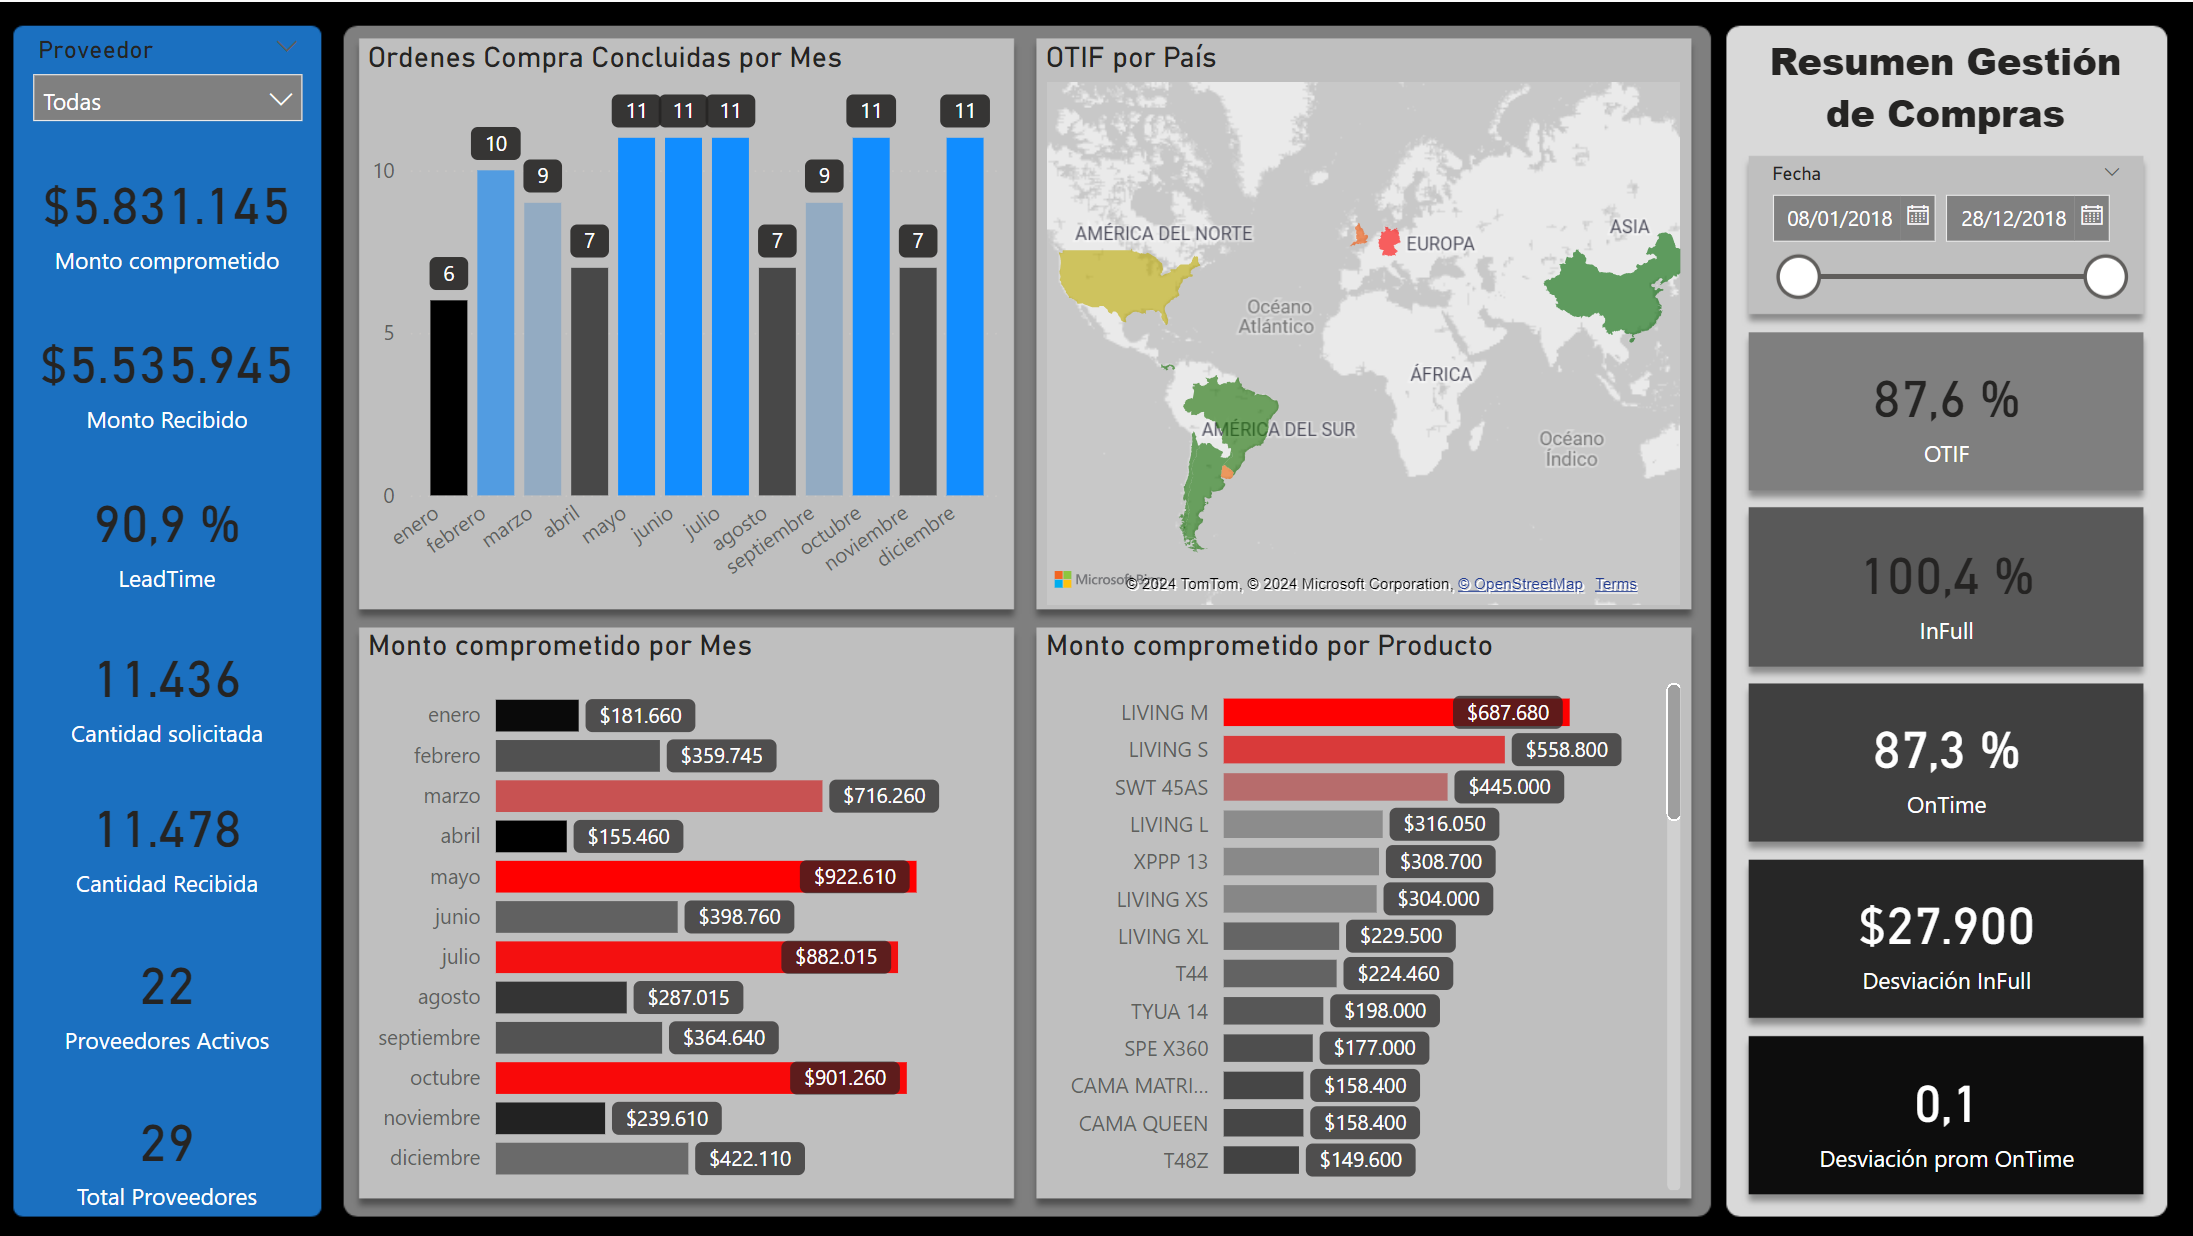

The dashboard page shown, as its layout file describes it:
{"tool":"powerbi","page":{"name":"Resumen Gestión Compra","canvas":[1280,720],"ordinal":0},"visuals":[{"type":"card","fields":{"Values":["ORDENES.Monto comprometido"]},"box":[10,87.7,176.7,75.8],"z":0},{"type":"card","fields":{"Values":["ORDENES.Monto Recibido"]},"box":[10,178.6,176.7,77.7],"z":1000},{"type":"clusteredColumnChart","fields":{"Y":["ORDENES.Ordenes Compra Concluidas"],"Category":["ORDENES.Fecha.Variación.Jerarquía de fechas.Mes"]},"box":[210.7,21.5,379,333.9],"z":2000},{"type":"card","fields":{"Values":["ORDENES.Cantidad solicitada"]},"box":[10,364.3,176.7,72.7],"z":3000},{"type":"card","fields":{"Values":["ORDENES.Cantidad Recibida"]},"box":[10,452.1,176.7,71.4],"z":4000},{"type":"card","fields":{"Values":["ORDENES.InFull"]},"box":[1019.2,296.2,228.2,89.5],"z":5000},{"type":"card","fields":{"Values":["ORDENES.OnTime"]},"box":[1019.2,397.2,228.2,89.5],"z":6000},{"type":"card","fields":{"Values":["ORDENES.OTIF"]},"box":[1019.2,192.5,228.2,89.5],"z":7000},{"type":"card","fields":{"Values":["ORDENES.Desviación InFull"]},"box":[1019.2,499.5,228.2,89.5],"z":8000},{"type":"card","fields":{"Values":["ORDENES.Desviación prom OnTime"]},"box":[1019.2,603.2,228.2,89.5],"z":9000},{"type":"slicer","fields":{"Values":["ORDENES.Fecha"]},"box":[1019.2,88.2,228.2,92.9],"z":10000},{"type":"clusteredBarChart","fields":{"Y":["ORDENES.Monto comprometido"],"Category":["ORDENES.Fecha.Variación.Jerarquía de fechas.Mes"]},"box":[210.7,364.2,379,332.6],"z":11000},{"type":"clusteredBarChart","fields":{"Y":["ORDENES.Monto comprometido"],"Category":["PRODUCTOS.descrip_prod"]},"box":[605.2,364.2,379,332.6],"z":12000},{"type":"filledMap","fields":{"Category":["PROVEEDORES.País"]},"box":[605.2,21.5,379,333.9],"z":13000},{"type":"card","fields":{"Values":["ORDENES.Proveedores Activos"]},"box":[10,538.6,176.7,80.8],"z":14000},{"type":"card","fields":{"Values":["ORDENES.Total Proveedores"]},"box":[10,634.6,176.7,71.4],"z":15000},{"type":"slicer","fields":{"Values":["PROVEEDORES.Proveedor"]},"box":[10.2,14.1,176.5,74.8],"z":16000},{"type":"textbox","box":[1011.2,14.1,243,74.2],"z":17000},{"type":"card","fields":{"Values":["ORDENES.LeadTime"]},"box":[10,271.5,176.7,77.7],"z":18000}]}

Visuals, with their boxes in screenshot pixels (x1, y1, x2, y2), scaled from the page's 1280x720 canvas onto the 2193x1236 screenshot:
card - ORDENES.Monto comprometido: 17, 151, 320, 281
card - ORDENES.Monto Recibido: 17, 307, 320, 440
clusteredColumnChart - ORDENES.Ordenes Compra Concluidas x ORDENES.Fecha.Variación.Jerarquía de fechas.Mes: 361, 37, 1010, 610
card - ORDENES.Cantidad solicitada: 17, 625, 320, 750
card - ORDENES.Cantidad Recibida: 17, 776, 320, 899
card - ORDENES.InFull: 1746, 508, 2137, 662
card - ORDENES.OnTime: 1746, 682, 2137, 836
card - ORDENES.OTIF: 1746, 330, 2137, 484
card - ORDENES.Desviación InFull: 1746, 857, 2137, 1011
card - ORDENES.Desviación prom OnTime: 1746, 1035, 2137, 1189
slicer - ORDENES.Fecha: 1746, 151, 2137, 311
clusteredBarChart - ORDENES.Monto comprometido x ORDENES.Fecha.Variación.Jerarquía de fechas.Mes: 361, 625, 1010, 1196
clusteredBarChart - ORDENES.Monto comprometido x PRODUCTOS.descrip_prod: 1037, 625, 1686, 1196
filledMap - PROVEEDORES.País: 1037, 37, 1686, 610
card - ORDENES.Proveedores Activos: 17, 925, 320, 1063
card - ORDENES.Total Proveedores: 17, 1089, 320, 1212
slicer - PROVEEDORES.Proveedor: 17, 24, 320, 153
textbox: 1732, 24, 2149, 152
card - ORDENES.LeadTime: 17, 466, 320, 599
